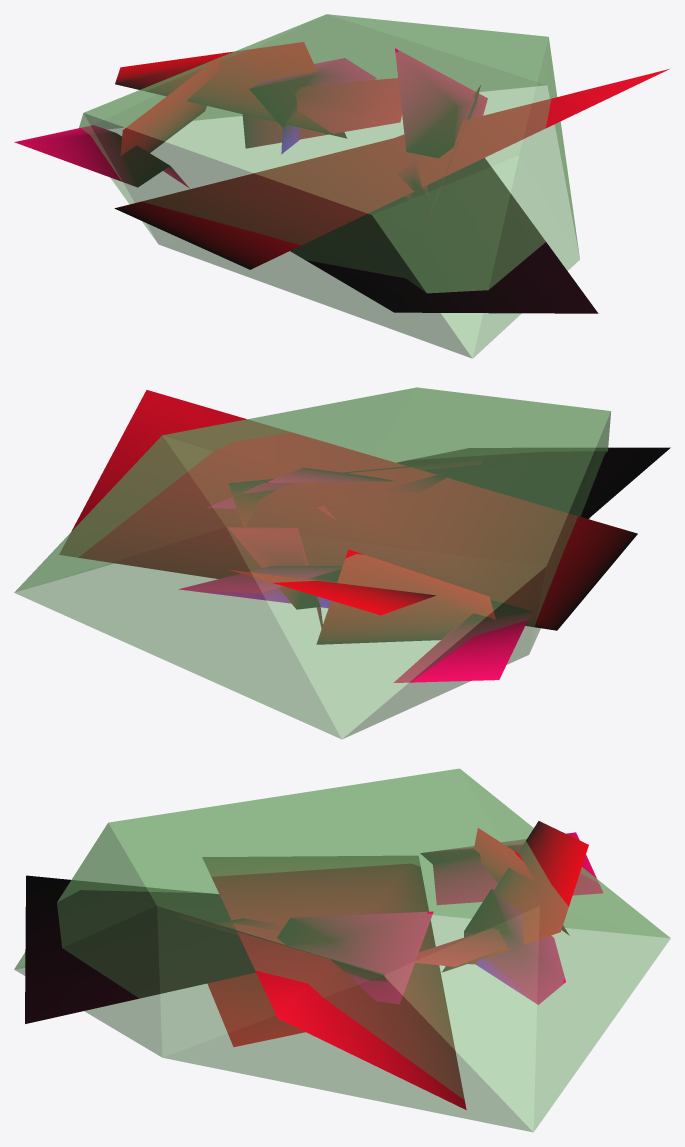
The model's file is fir_dead_branches.dae.
3 views of the same model, one above another, from view 1: azimuth 30°, elevation 25°; view 2: azimuth 150°, elevation 25°; view 3: azimuth 270°, elevation 25° (orthographic).
Visible parts, largest first — view 1: Colmesh-1, tree_douglasfir_dead_branches_a500; view 2: Colmesh-1, tree_douglasfir_dead_branches_a500; view 3: Colmesh-1, tree_douglasfir_dead_branches_a500.
Boxes of the visible parts, <box> form: Colmesh-1: <box>79,14,579,358</box>; tree_douglasfir_dead_branches_a500: <box>14,42,670,313</box>; Colmesh-1: <box>14,387,610,739</box>; tree_douglasfir_dead_branches_a500: <box>59,390,670,682</box>; Colmesh-1: <box>14,768,670,1132</box>; tree_douglasfir_dead_branches_a500: <box>25,821,602,1109</box>.
Size of the model in its own units: 4.76 by 5.33 by 1.51.
